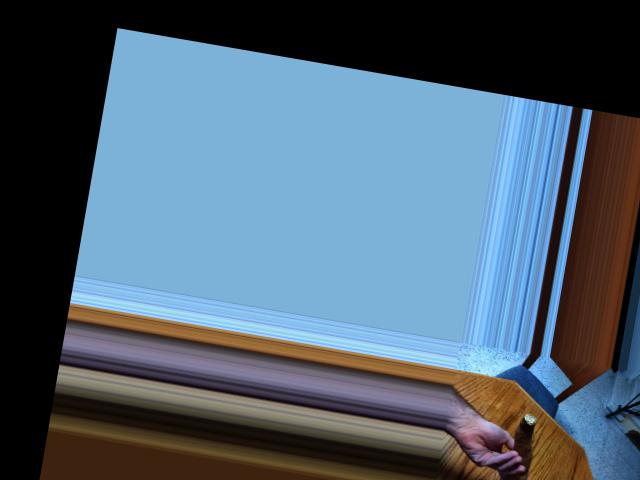sweet_potato: (502, 416, 544, 480)
